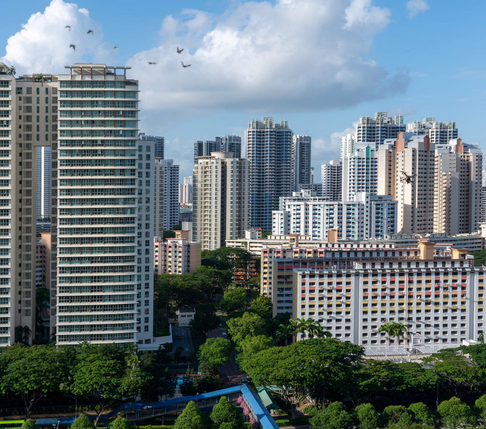drone_other: (399, 170, 418, 185)
